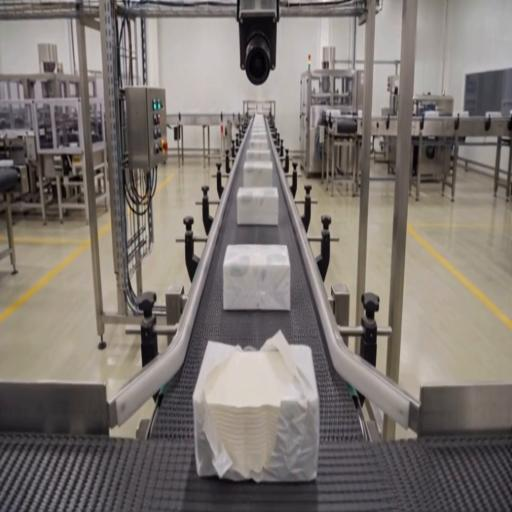defective: (194, 336, 318, 483)
good: (222, 244, 290, 312), (236, 186, 280, 228), (243, 163, 274, 189), (245, 145, 271, 163), (246, 136, 270, 151), (247, 118, 269, 134), (251, 113, 267, 125)
